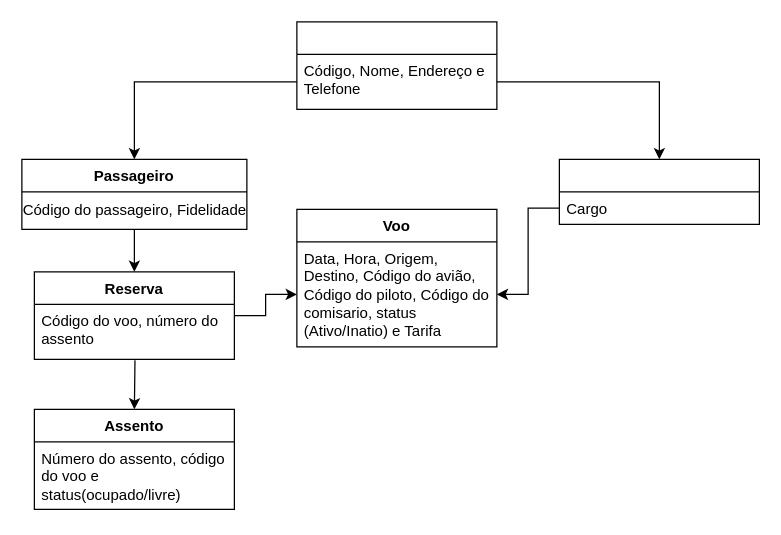
The diagram is 781 pixels wide and 535 high, and some of its shapes have lost their labels. The box of each missing label's shape, as (x1, y1, x2, y2) in pixels:
Pessoa: (296, 21, 497, 109)
Tripulação: (558, 158, 759, 224)
